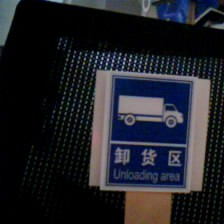unload: (101, 68, 202, 196)
